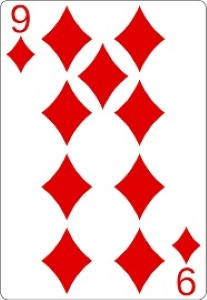NineOfDiamonds: (1, 1, 207, 300)
